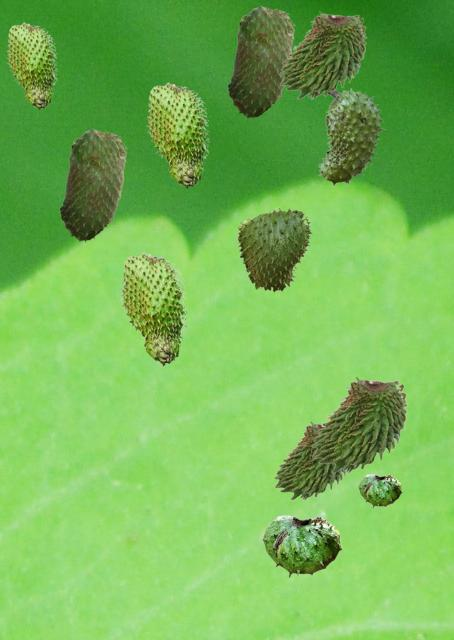guyabano: (310, 375, 407, 472), (278, 10, 366, 98), (227, 5, 294, 118), (59, 128, 126, 241), (120, 252, 187, 365), (317, 87, 385, 186), (146, 82, 209, 188), (237, 207, 312, 293), (273, 420, 346, 499), (262, 515, 341, 577), (6, 22, 57, 109), (358, 474, 401, 507)
